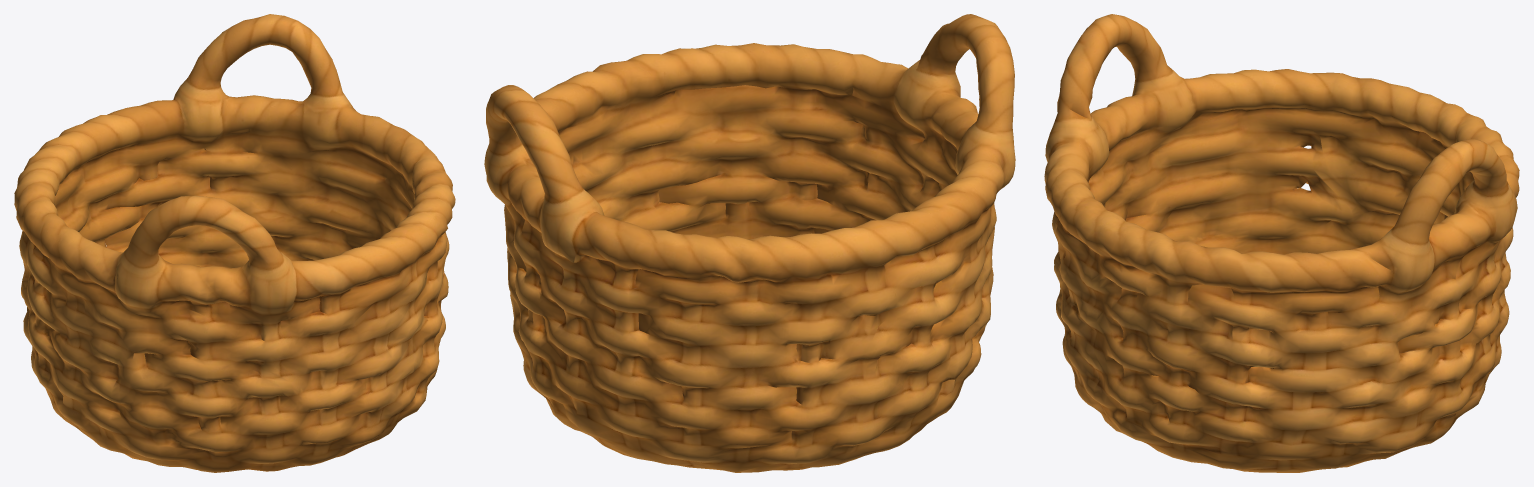
3 renders of one model, left to right at view 1: azimuth 30°, elevation 25°; view 2: azimuth 150°, elevation 25°; view 3: azimuth 270°, elevation 25°, orthographic. The views are drawn at different scales.
Visible parts, largest first — view 1: tripo_node_bbe5e4c4; view 2: tripo_node_bbe5e4c4; view 3: tripo_node_bbe5e4c4.
Part boxes in pixels (<box>): tripo_node_bbe5e4c4: <box>14,14,455,472</box>; tripo_node_bbe5e4c4: <box>484,14,1015,472</box>; tripo_node_bbe5e4c4: <box>1044,14,1519,472</box>.
Bounding box in the file's own units: 98.98 × 73.35 × 98.81.
Materials: 1 (1 with a texture image).
